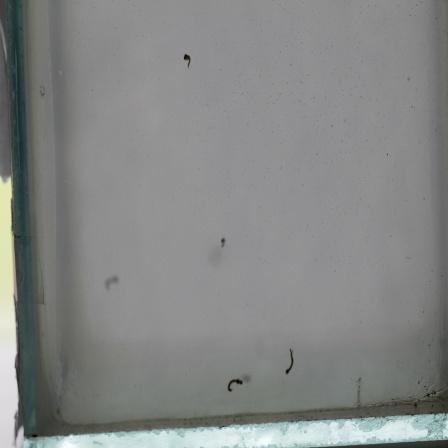Jentik-Nyamuk: (282, 346, 298, 378), (224, 376, 247, 397), (181, 47, 193, 72)
